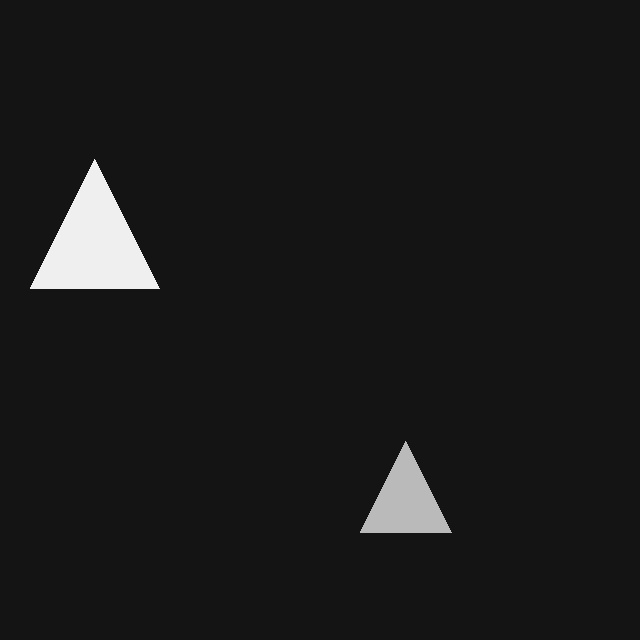triangle: (30, 159, 159, 288), (360, 441, 451, 532)
